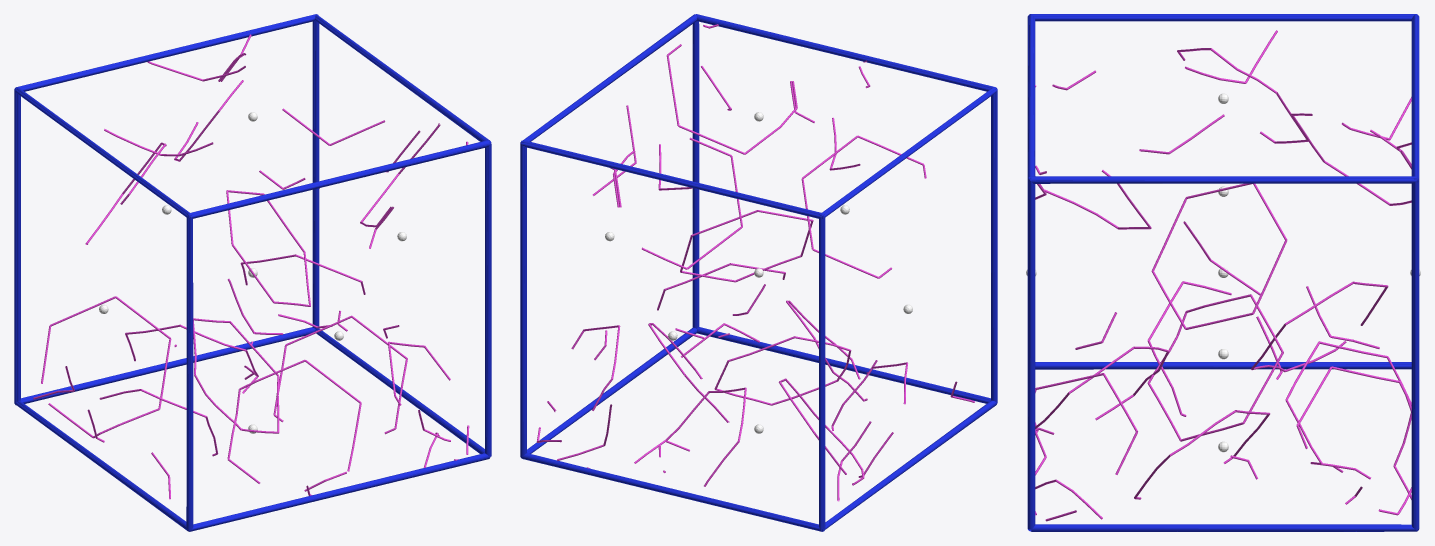
File: dislocation100.glb
3 views of the same model, side by side, from view 1: azimuth 30°, elevation 25°; view 2: azimuth 150°, elevation 25°; view 3: azimuth 270°, elevation 25° (orthographic). The views are drawn at different scales.
Parts seen in each view (by area): view 1: Shape_IndexedLineSet.002, Shape_IndexedLineSet.003; view 2: Shape_IndexedLineSet.002, Shape_IndexedLineSet.003; view 3: Shape_IndexedLineSet.002, Shape_IndexedLineSet.003.
Part boxes in pixels (x1,y1,x2,y2): Shape_IndexedLineSet.002: (14, 14, 491, 531); Shape_IndexedLineSet.003: (33, 34, 469, 499); Shape_IndexedLineSet.002: (520, 14, 997, 531); Shape_IndexedLineSet.003: (536, 24, 974, 501); Shape_IndexedLineSet.002: (1027, 14, 1419, 531); Shape_IndexedLineSet.003: (1035, 30, 1411, 521).
Size of what is drawn, in the model's own units: 1.03 by 1.03 by 1.03.
